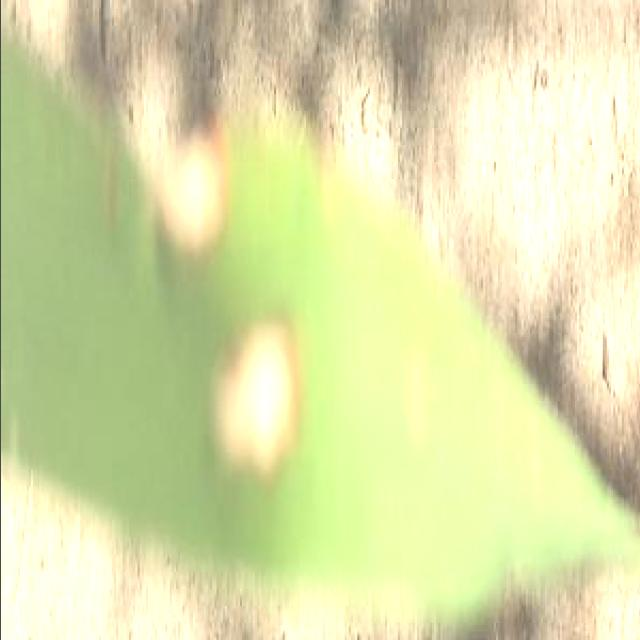Brown_Spot: (196, 308, 314, 483)
